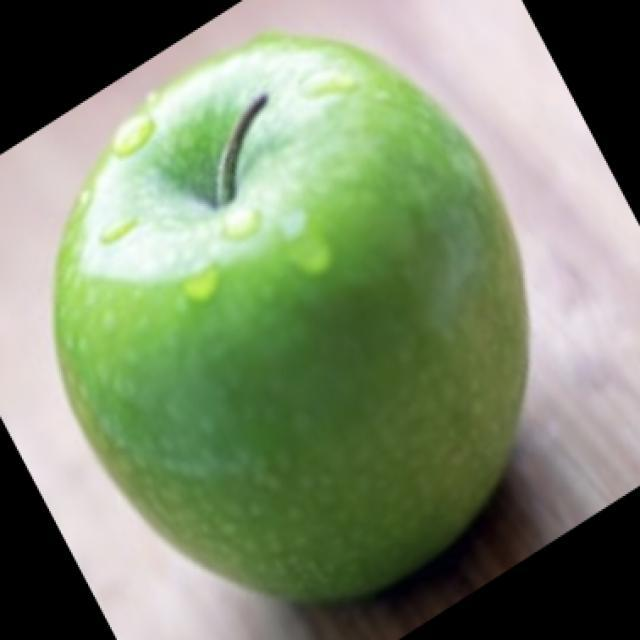Fresh Apple: (83, 72, 527, 553)
